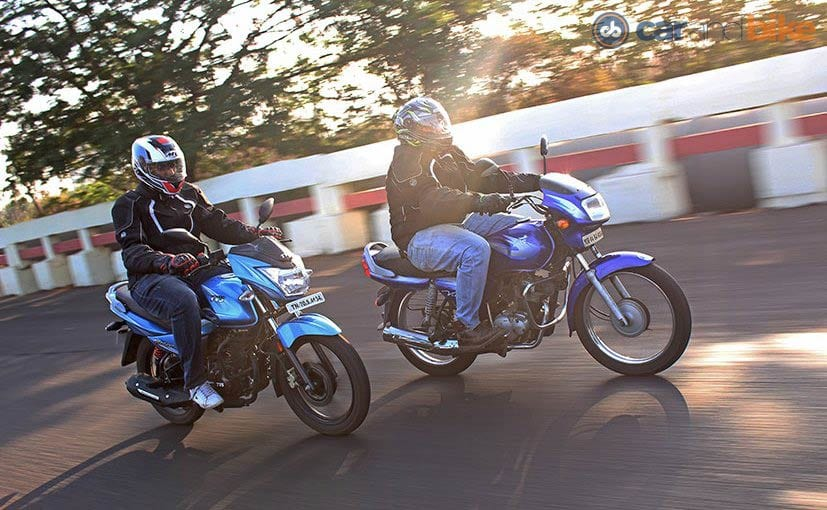helmet: (344, 61, 533, 262), (115, 133, 223, 273)
